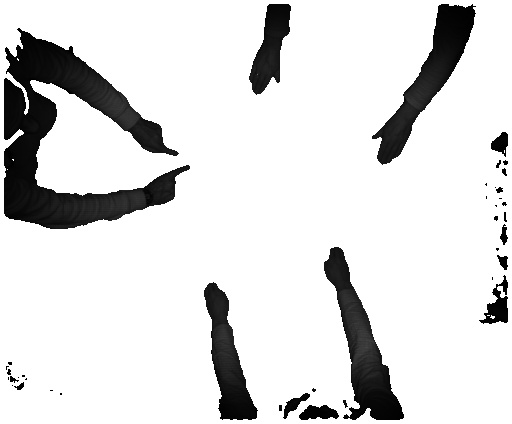hand: (368, 114, 413, 167), (149, 165, 191, 215), (248, 46, 287, 95), (136, 116, 180, 159), (320, 240, 359, 287), (200, 280, 231, 321)
